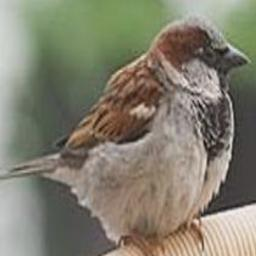Sparrow: (0, 14, 251, 256)
